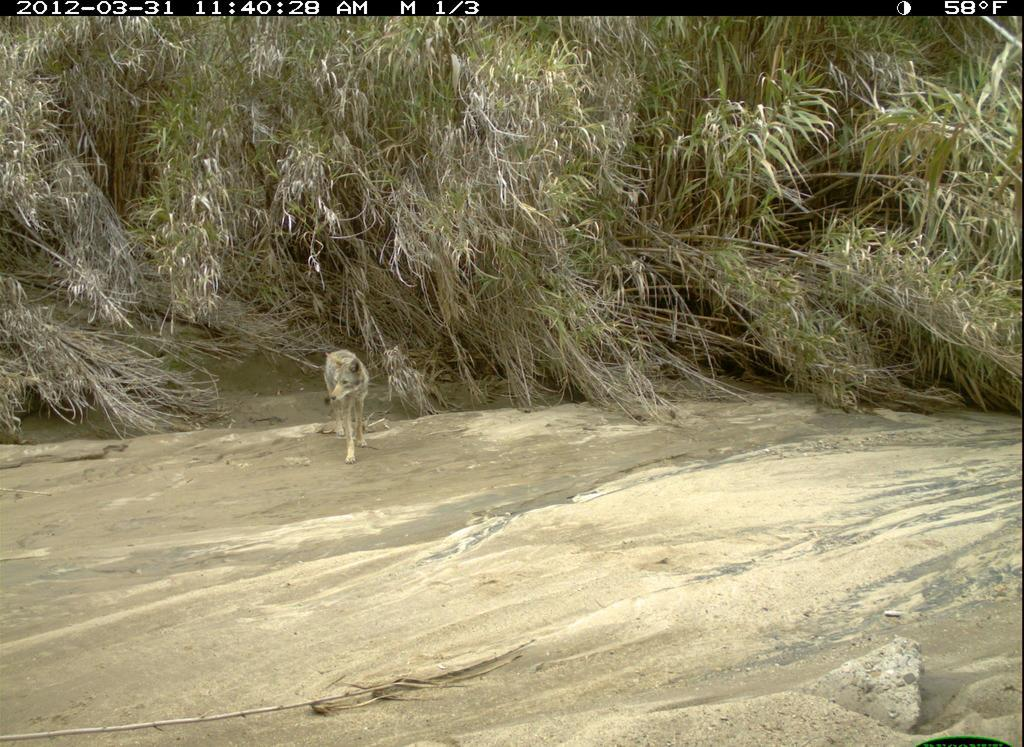coyote: (314, 349, 380, 468)
